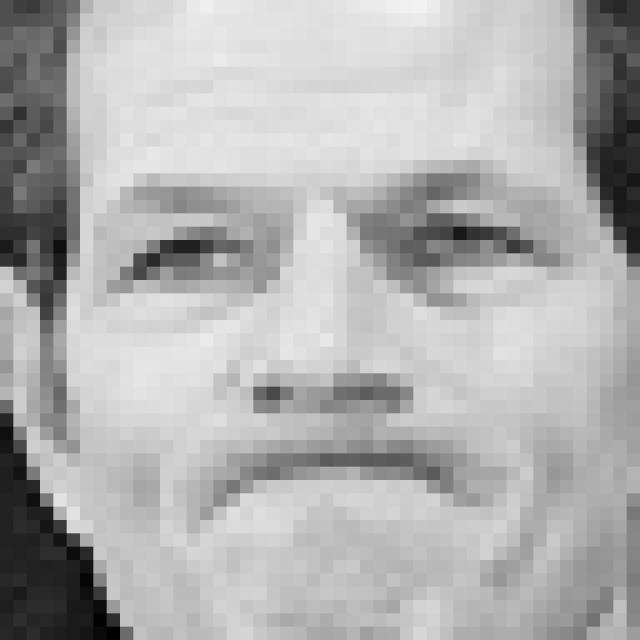sad: (79, 163, 579, 588)
